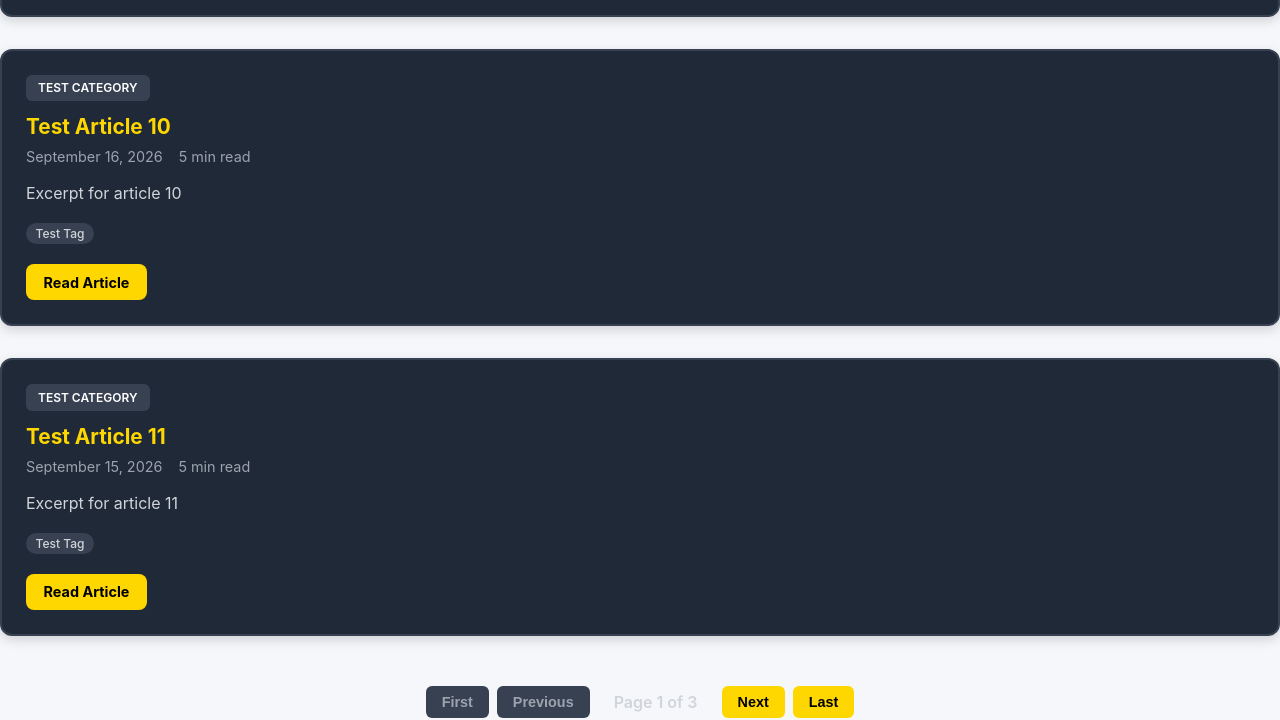
Test: NewsIndex pagination › navigates to last page
(page scrolled)
What coordinates should you click on to do the following:
click the button "Last"
I would click on:
 (824, 702)
Its box is top-left (793, 686), bottom-right (854, 718).
(page scrolled)
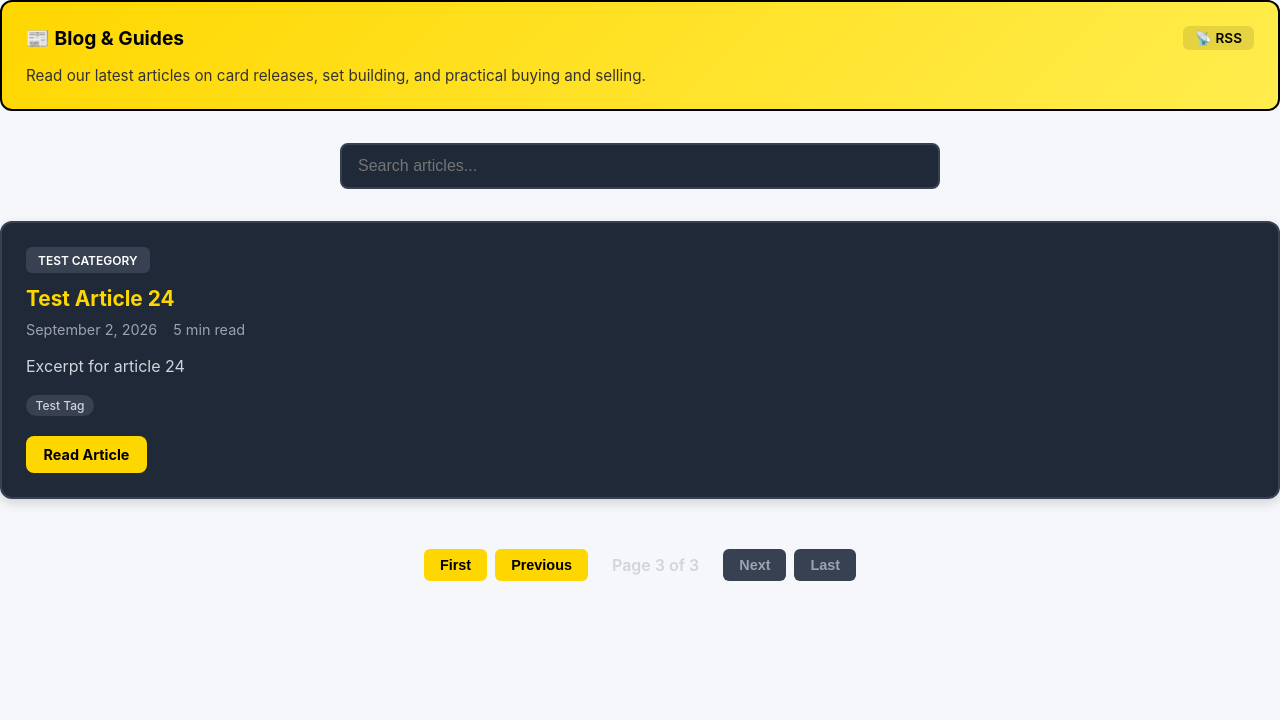
Now the text "Page 3 of 3" is shown, box top-left (612, 555), bottom-right (699, 575)
